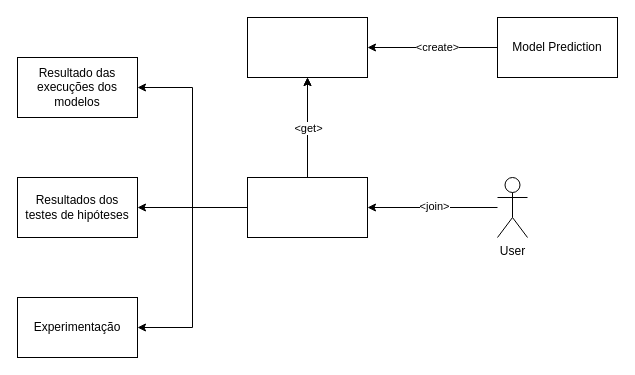
This 635x375 diagram has some shape labels left out. Here are the shapes that lost their labels. From the top down, the centre of each, then its label:
the point at 307,47: Model
the point at 307,207: Platform
